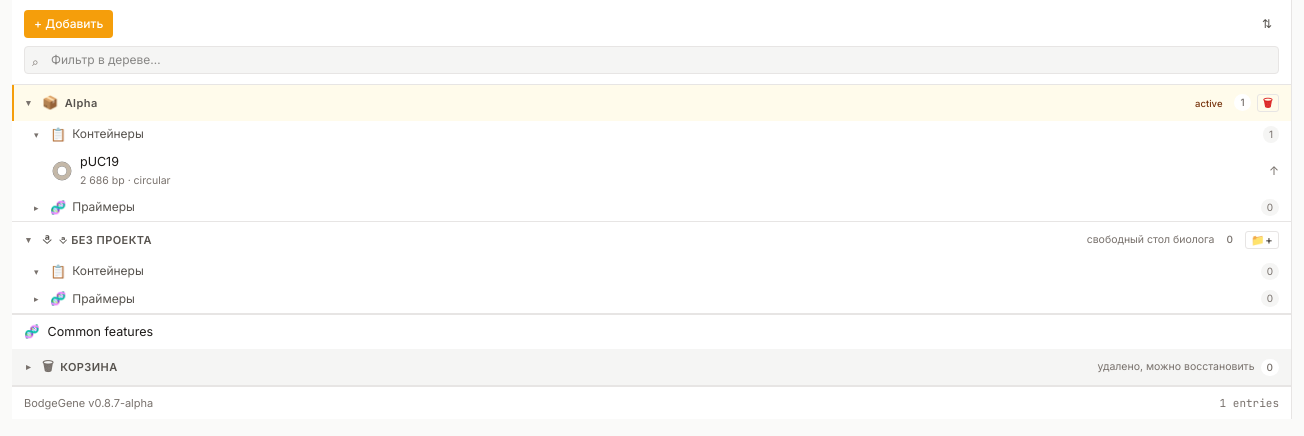
M-C.1 — ProjectZone collapse/expand (📦 сворачивание) › ProjectZone header click collapses and re-expands the entry list
The width and height of the screenshot is (1304, 436).
Expected: the button with test id "tree-item-project-e1" is shown, [12,148,1291,194]
Note: Click to collapse
Click the button with test id "library-zone-project-proj1-head" at (81, 102), box [12,85,1291,120]
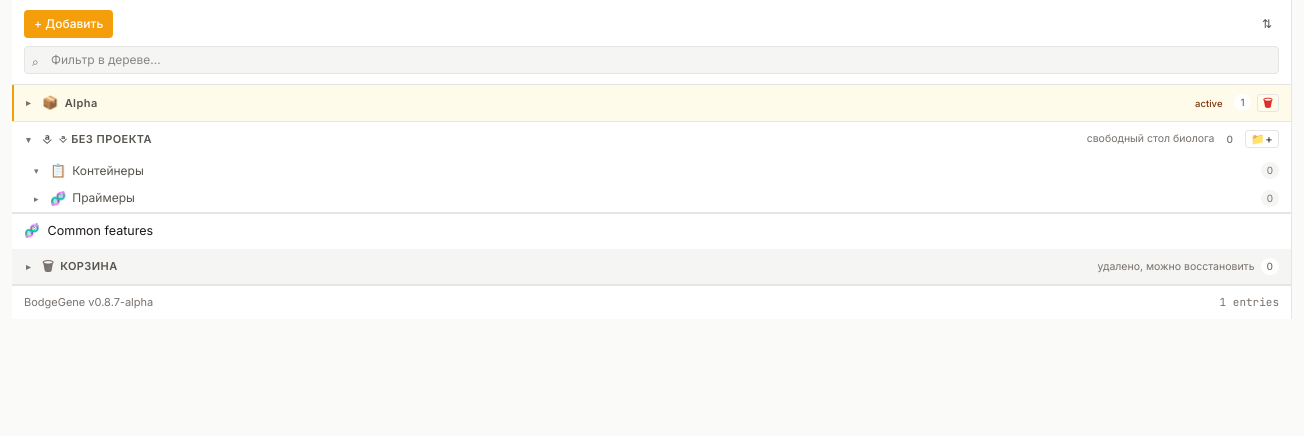
Now the button with test id "tree-item-project-e1" is gone
Note: Click again to expand
Click the button with test id "library-zone-project-proj1-head" at (81, 102), box [12,85,1291,120]
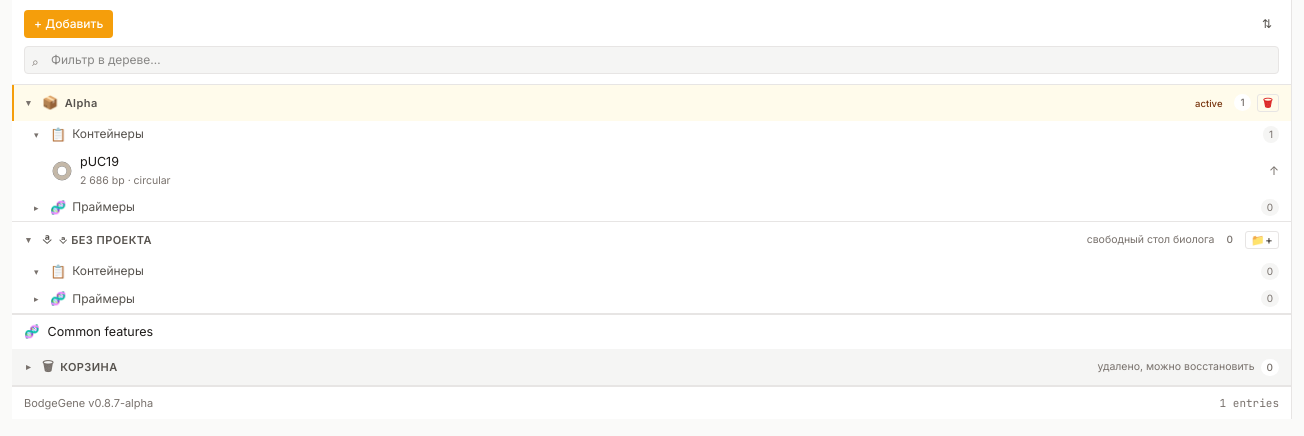
Now the button with test id "tree-item-project-e1" is shown, box [12,148,1291,194]
